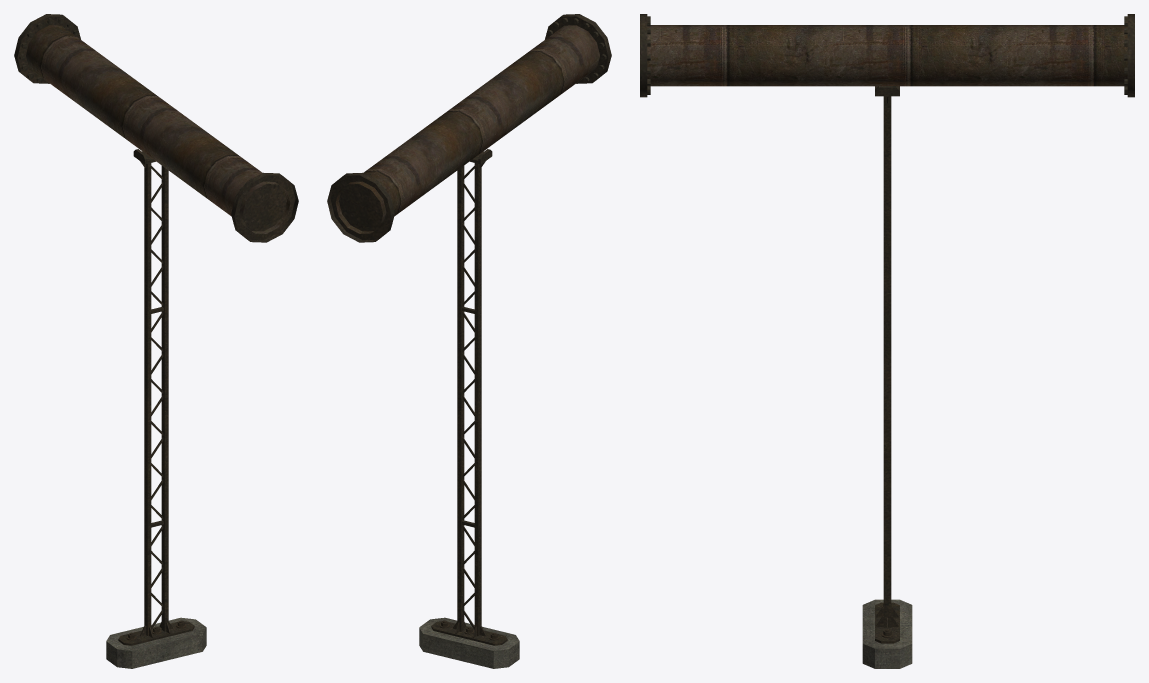
The model's file is pipe_dx_1.obj.
3 views of the same model, side by side, from view 1: azimuth 30°, elevation 25°; view 2: azimuth 150°, elevation 25°; view 3: azimuth 270°, elevation 25° (orthographic). The views are drawn at different scales.
Parts seen in each view (by area): view 1: pipe_dx_1; view 2: pipe_dx_1; view 3: pipe_dx_1.
Part boxes in pixels (bbox=[...]): pipe_dx_1: bbox=[14, 14, 298, 668]; pipe_dx_1: bbox=[327, 14, 611, 668]; pipe_dx_1: bbox=[640, 14, 1134, 668].
Bounding box in the file's own units: 0.94 × 5.59 × 4.
